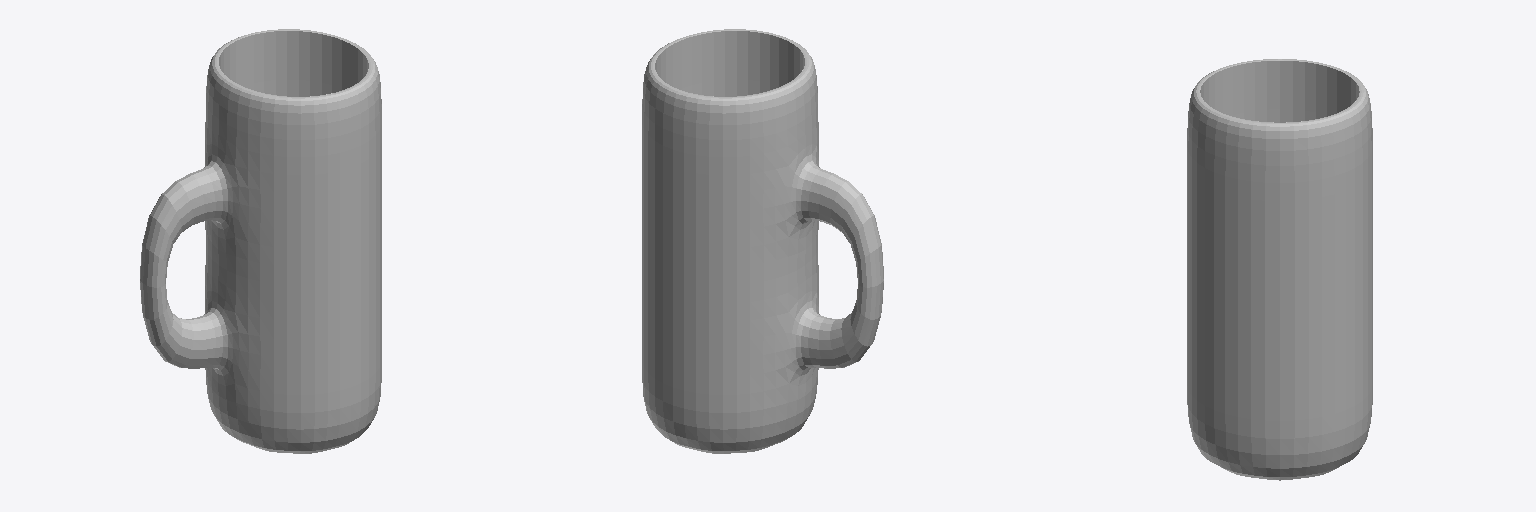
The model's file is caneca.obj.
3 renders of one model, left to right at view 1: azimuth 30°, elevation 25°; view 2: azimuth 150°, elevation 25°; view 3: azimuth 270°, elevation 25°, orthographic.
Visible parts, largest first — view 1: Cilindro_Cilindro.002; view 2: Cilindro_Cilindro.002; view 3: Cilindro_Cilindro.002.
Part boxes in pixels (left/top/right/bottom): Cilindro_Cilindro.002: left=140, top=29, right=381, bottom=453; Cilindro_Cilindro.002: left=642, top=29, right=883, bottom=453; Cilindro_Cilindro.002: left=1187, top=59, right=1372, bottom=480.
Bounding box in the file's own units: 0.8845 × 1.37 × 0.6296.